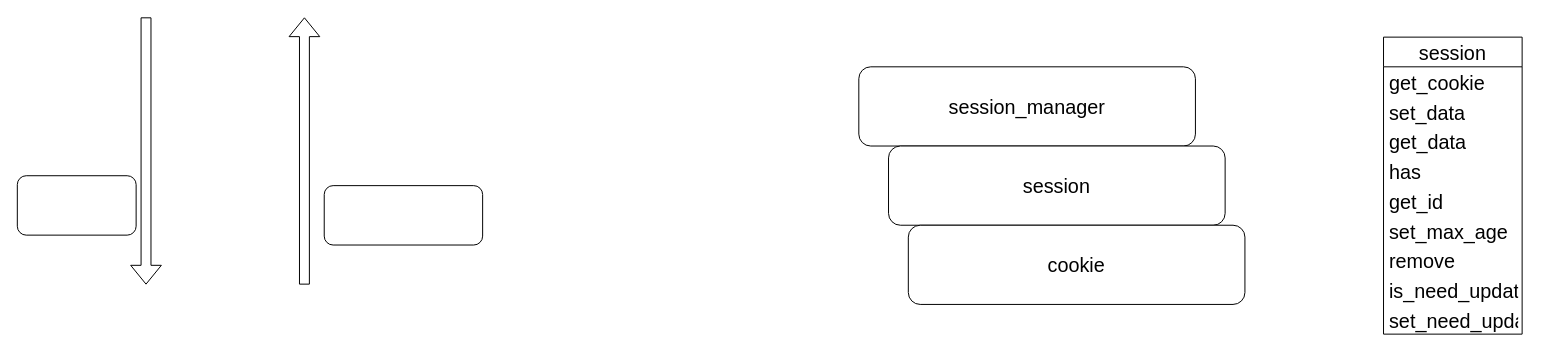
This 1558x351 diagram has some shape labels left out. The box of each missing label's shape, as (x1, y1, x2, y2) in pixels:
set_session: (16, 175, 136, 235)
start_session(): (323, 185, 483, 245)
